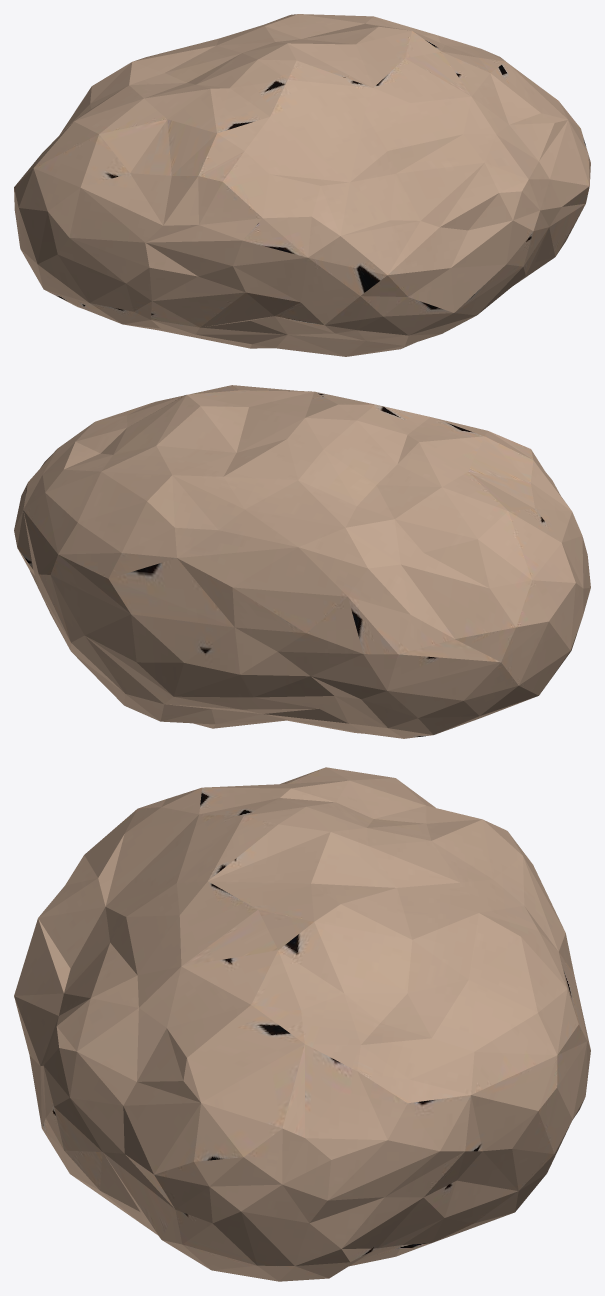
File: roca_arenisca.glb
3 renders of one model, top to bottom at view 1: azimuth 30°, elevation 25°; view 2: azimuth 150°, elevation 25°; view 3: azimuth 270°, elevation 25°, orthographic. The views are drawn at different scales.
Parts seen in each view (by area): view 1: roca_arenisca_medio; view 2: roca_arenisca_medio; view 3: roca_arenisca_medio.
Part boxes in pixels (x1,y1,x2,y2): roca_arenisca_medio: (14, 14, 590, 356); roca_arenisca_medio: (14, 385, 590, 738); roca_arenisca_medio: (14, 767, 590, 1281).
Size of the model in its own units: 1.66 by 0.8773 by 1.25.
1 material, 1 textured.
